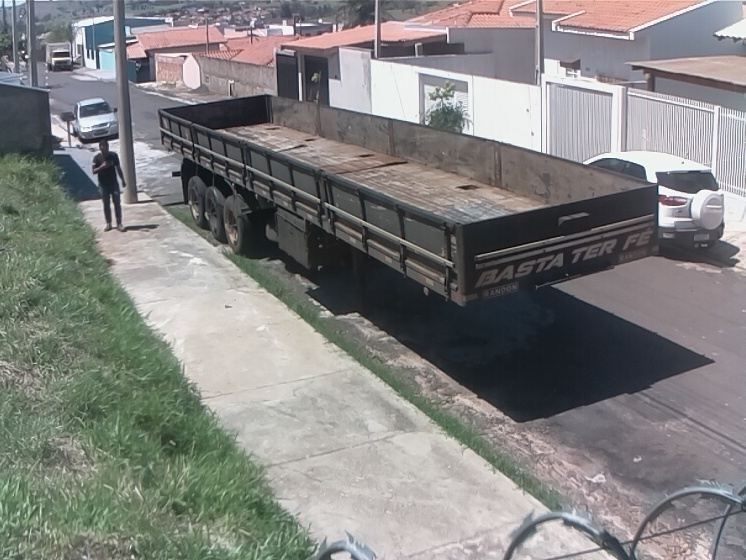person: (91, 136, 129, 235)
